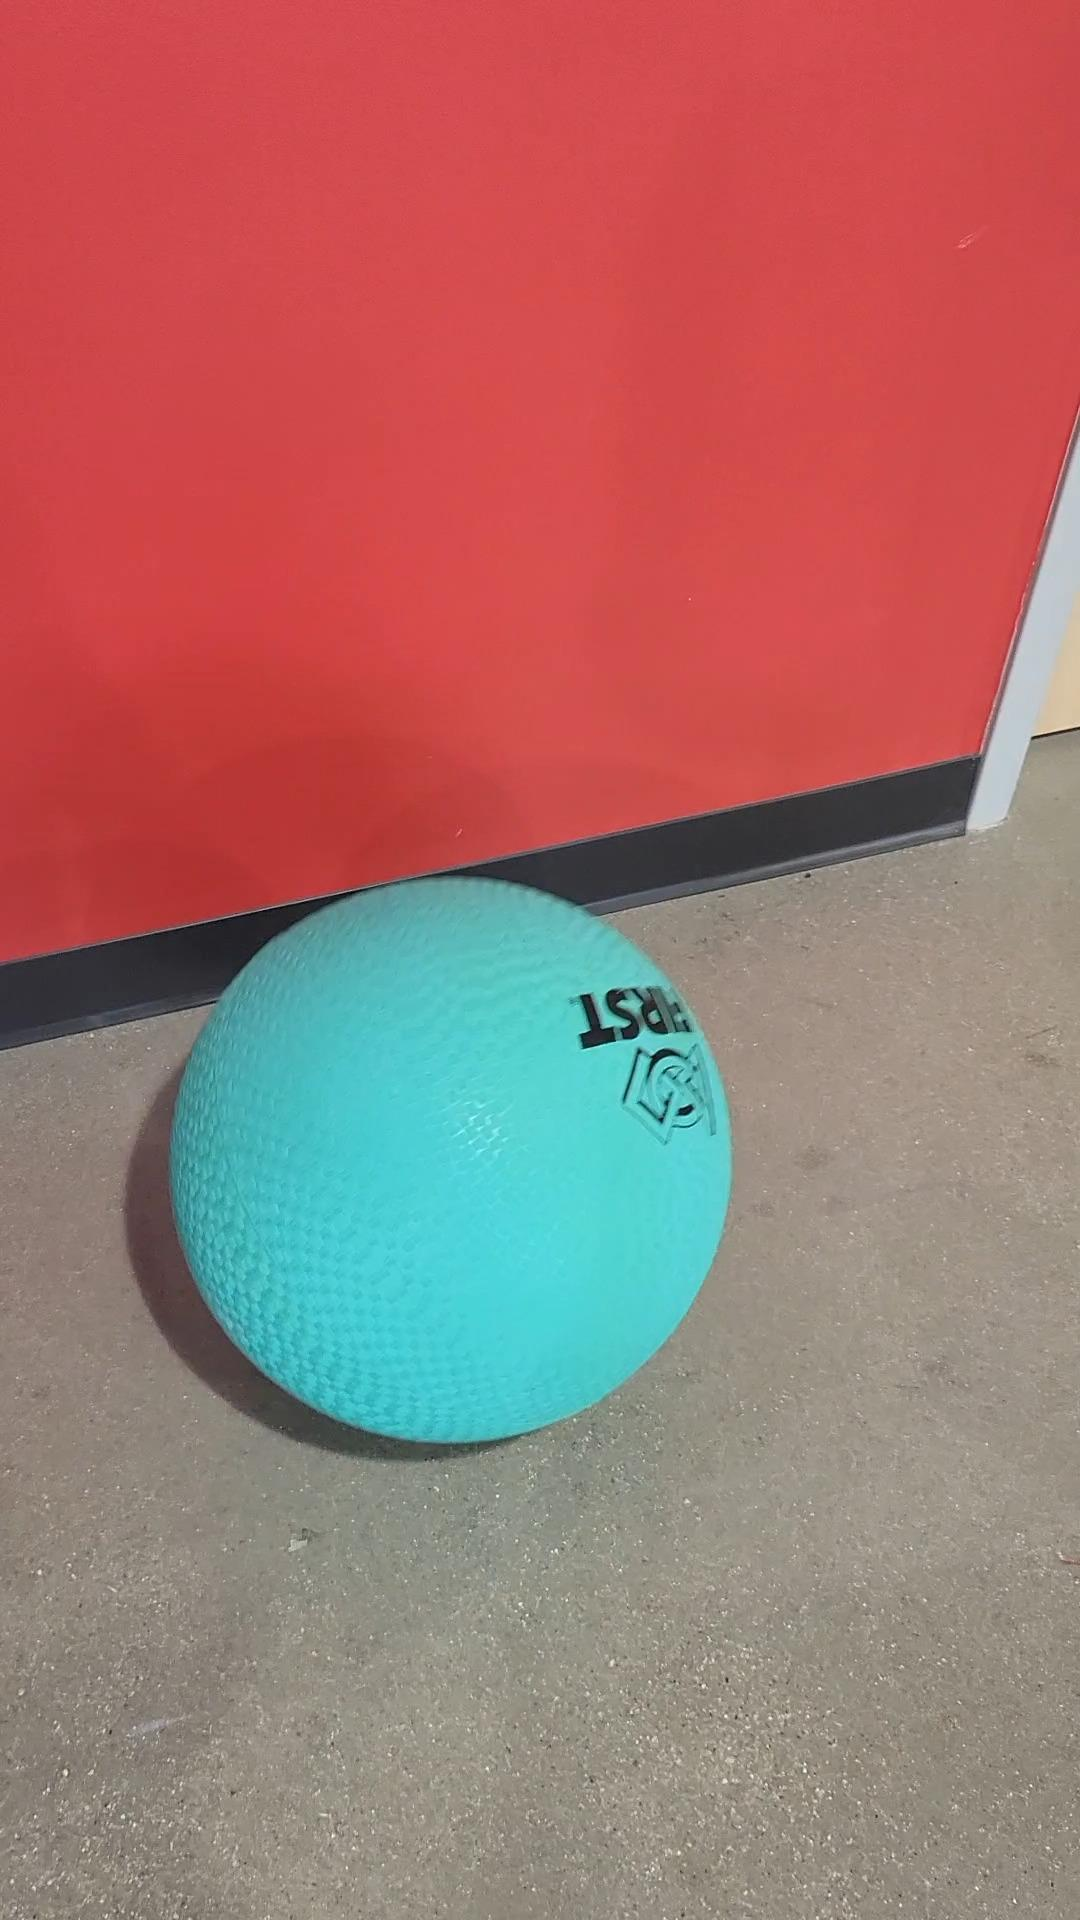algae: (171, 876, 723, 1432)
